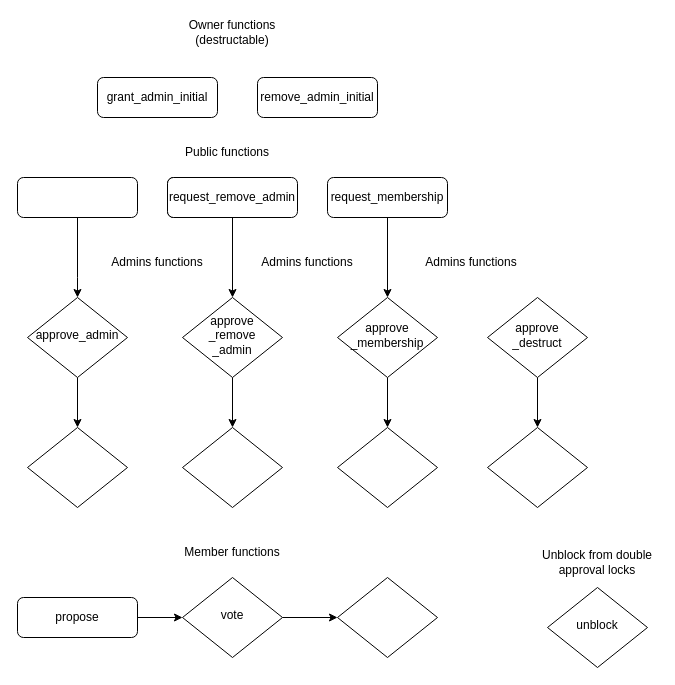
The diagram is 675 pixels wide and 685 high, and some of its shapes have lost their labels. Here are the shapes that lost their labels. From the top down, the centre of each, then its label:
the point at 77,197: request_admin
the point at 77,467: grant_admin
the point at 232,467: remove_admin
the point at 387,467: grant _membership
the point at 537,467: destruct _owner
the point at 387,617: pass_proposal
